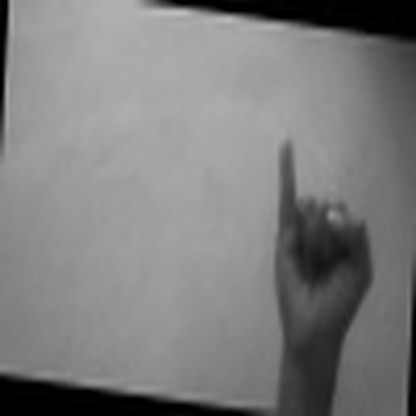i: (263, 132, 388, 353)
